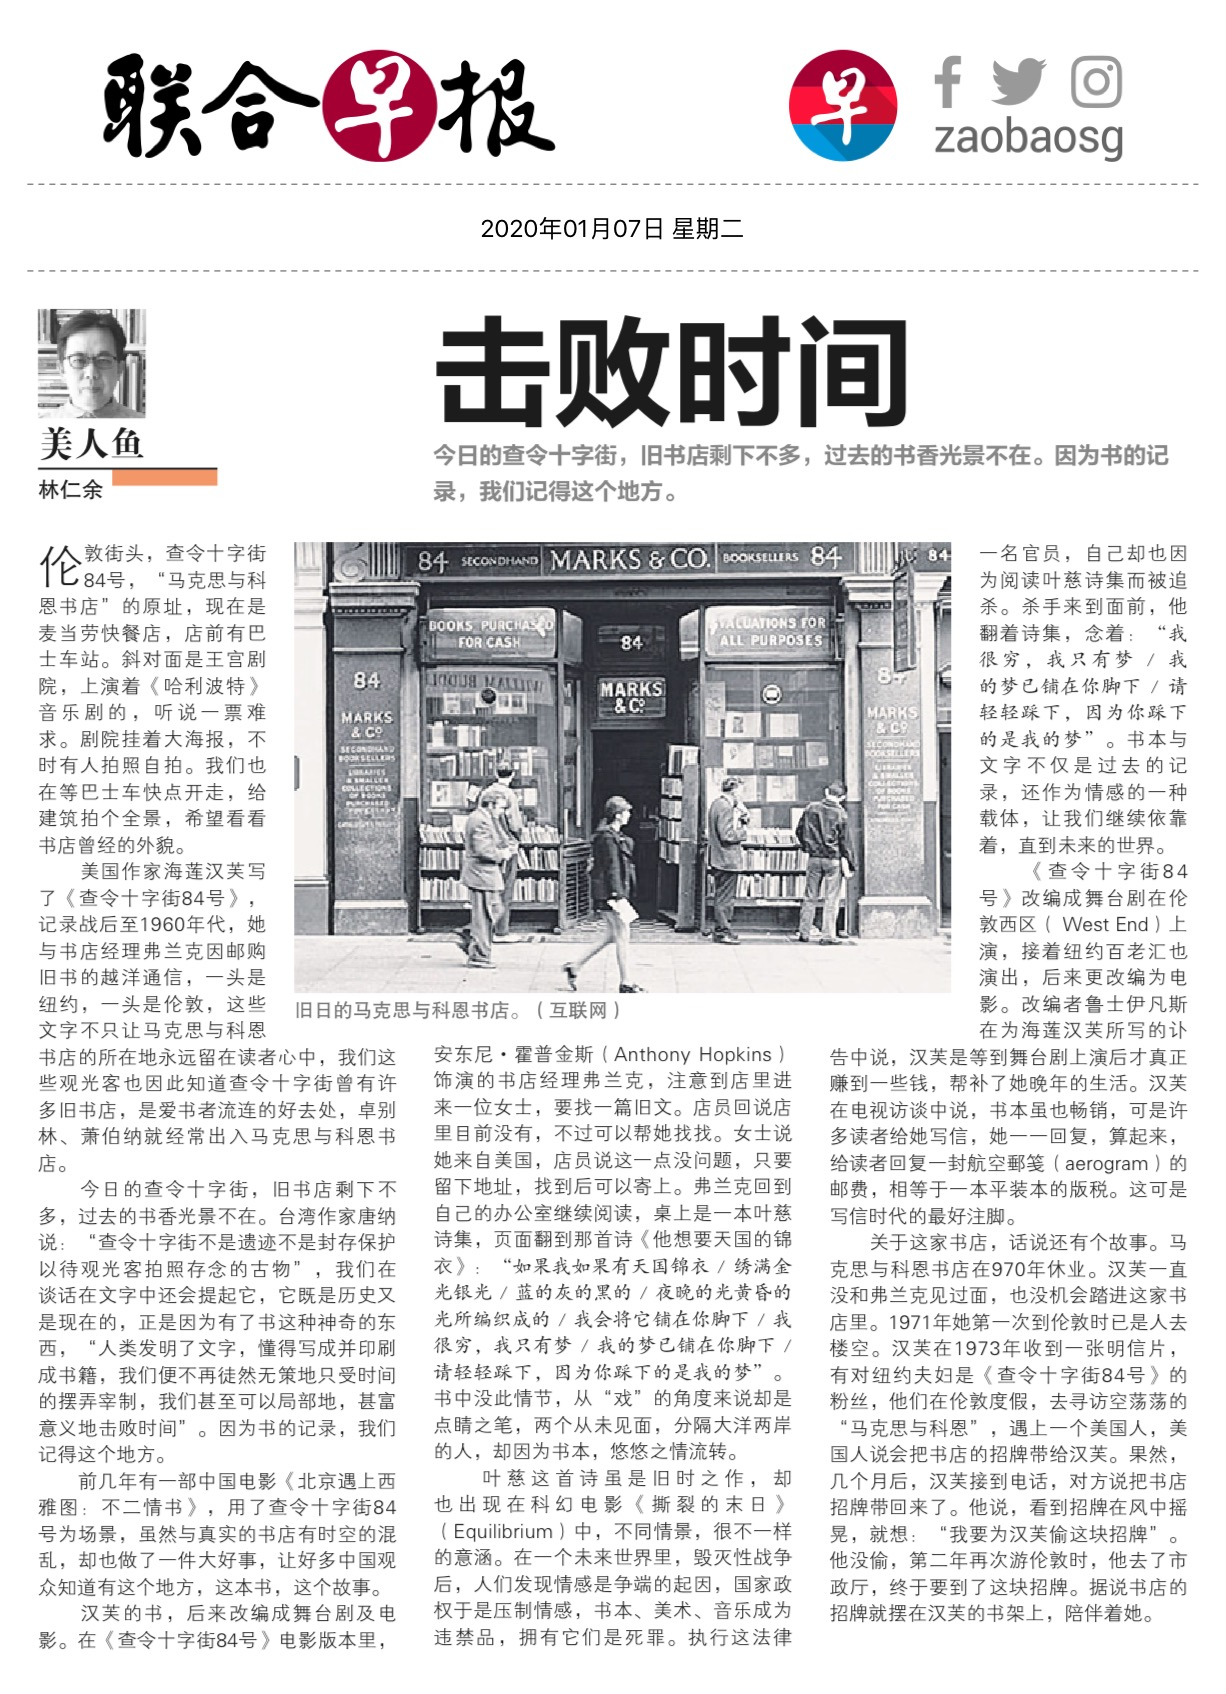heading: (428, 308, 923, 438)
